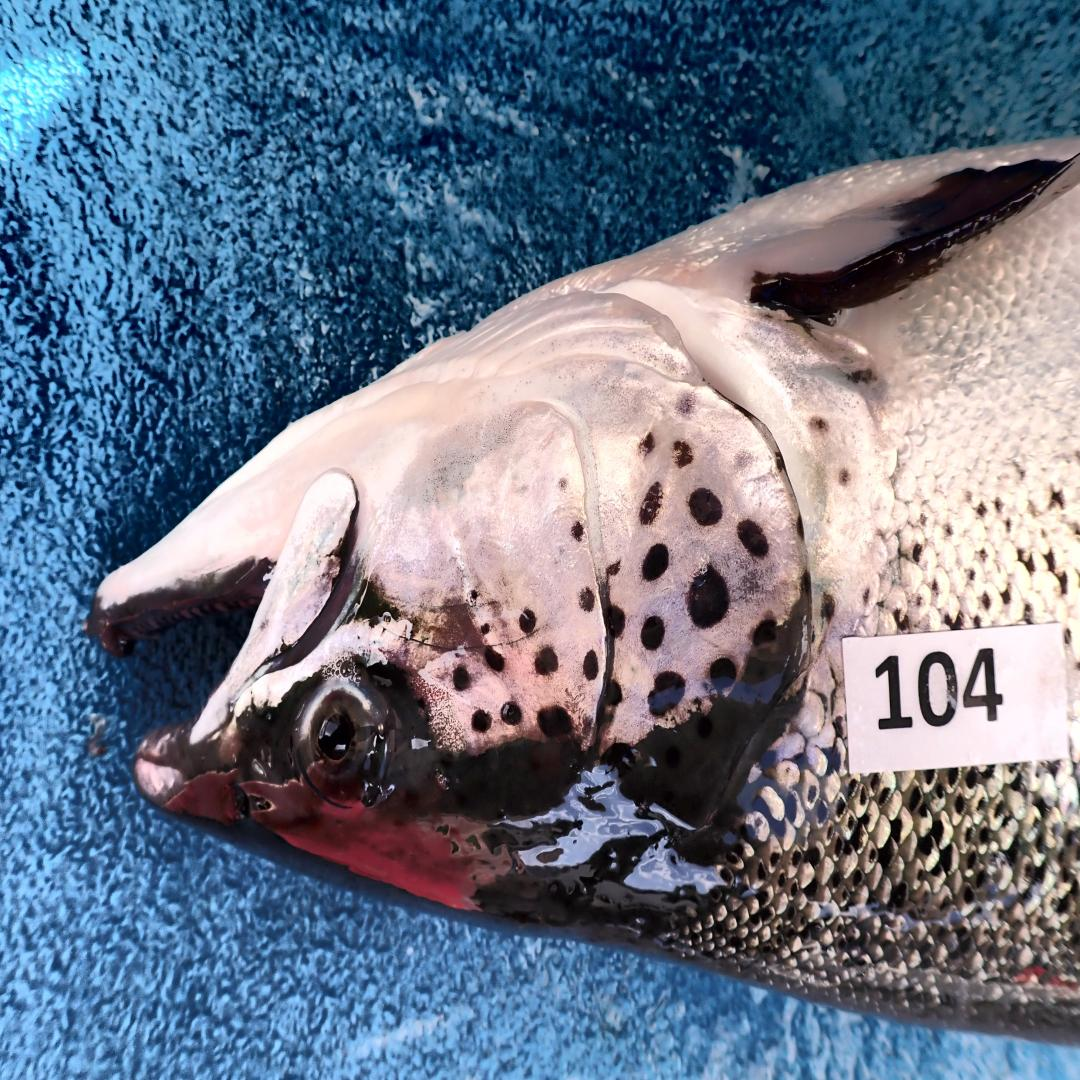spot: (687, 565, 730, 629), (648, 671, 686, 717), (688, 486, 724, 526), (736, 520, 770, 557), (639, 481, 665, 526), (538, 704, 572, 737), (641, 543, 669, 581), (641, 616, 665, 650), (711, 657, 736, 688), (534, 647, 559, 675), (752, 619, 776, 646), (500, 700, 523, 726), (608, 605, 626, 638), (673, 439, 694, 467), (582, 650, 599, 681), (452, 664, 470, 692), (470, 709, 491, 733), (484, 647, 504, 672), (519, 610, 536, 636), (639, 430, 656, 456), (605, 681, 622, 706), (580, 588, 595, 613), (677, 395, 691, 414), (605, 560, 620, 577), (572, 520, 584, 540), (796, 514, 804, 540), (558, 477, 568, 490), (480, 623, 490, 635), (471, 589, 479, 600)
